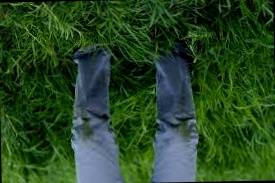earth: (182, 119, 190, 142), (84, 117, 92, 140)
